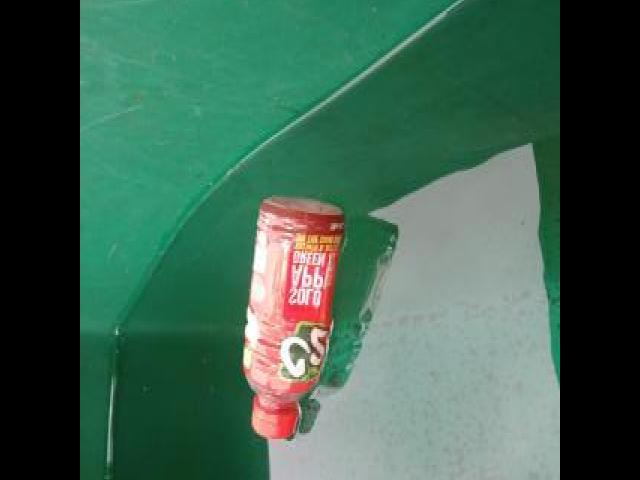Bottle: (236, 185, 350, 446)
